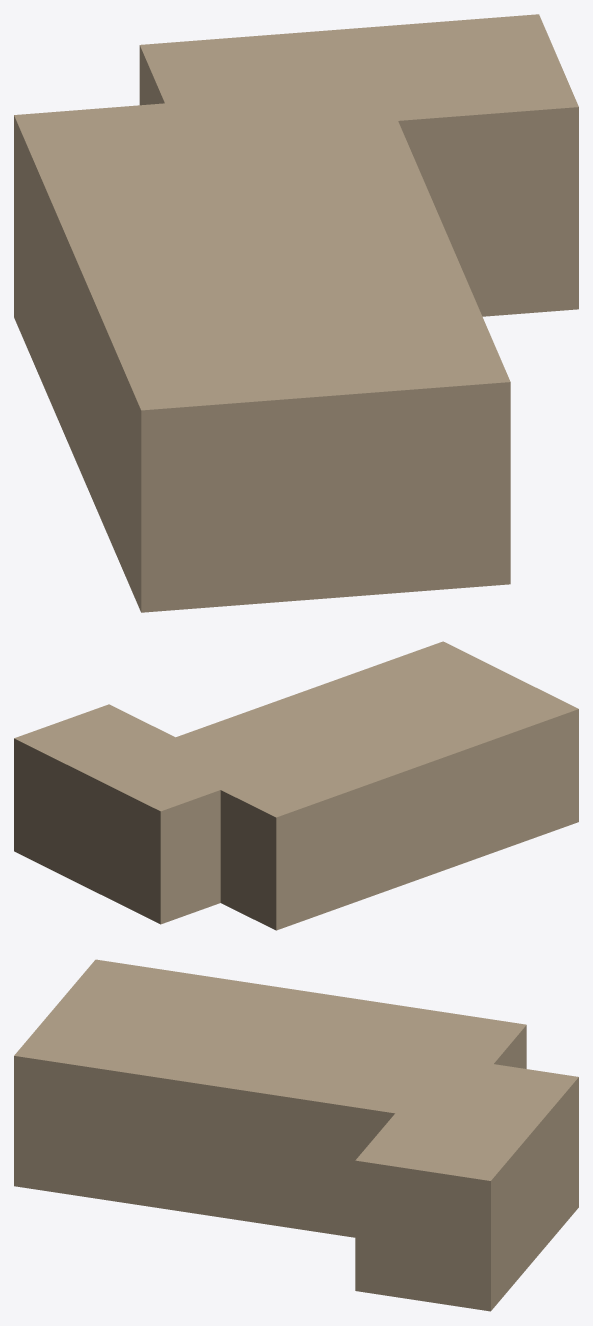
Rendered from bld_108401198.dae.
The picture shows the model from 3 angles, top to bottom: view 1: azimuth 30°, elevation 25°; view 2: azimuth 150°, elevation 25°; view 3: azimuth 270°, elevation 25°; orthographic projection. The views are drawn at different scales.
Visible parts, largest first — view 1: Beeleigh Abbey; view 2: Beeleigh Abbey; view 3: Beeleigh Abbey.
Boxes of the visible parts, x1,y1,x2,y2 form: Beeleigh Abbey: [14, 14, 578, 612]; Beeleigh Abbey: [14, 641, 578, 930]; Beeleigh Abbey: [14, 959, 578, 1311].
Size of the model in its own units: 29.15 by 31.41 by 8.
